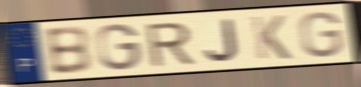B: (41, 24, 94, 77)
G: (95, 22, 143, 73), (298, 10, 345, 60)
J: (204, 18, 241, 63)
K: (249, 14, 294, 61)
R: (143, 20, 197, 69)
